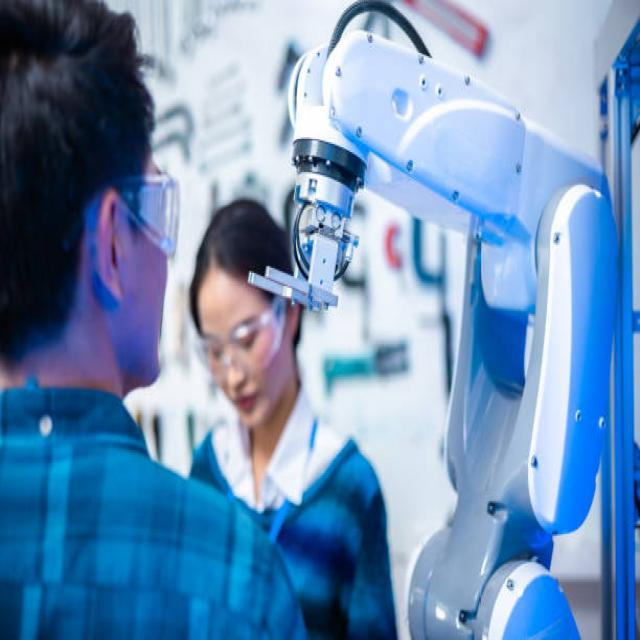Robotic-arm: (248, 20, 624, 640)
